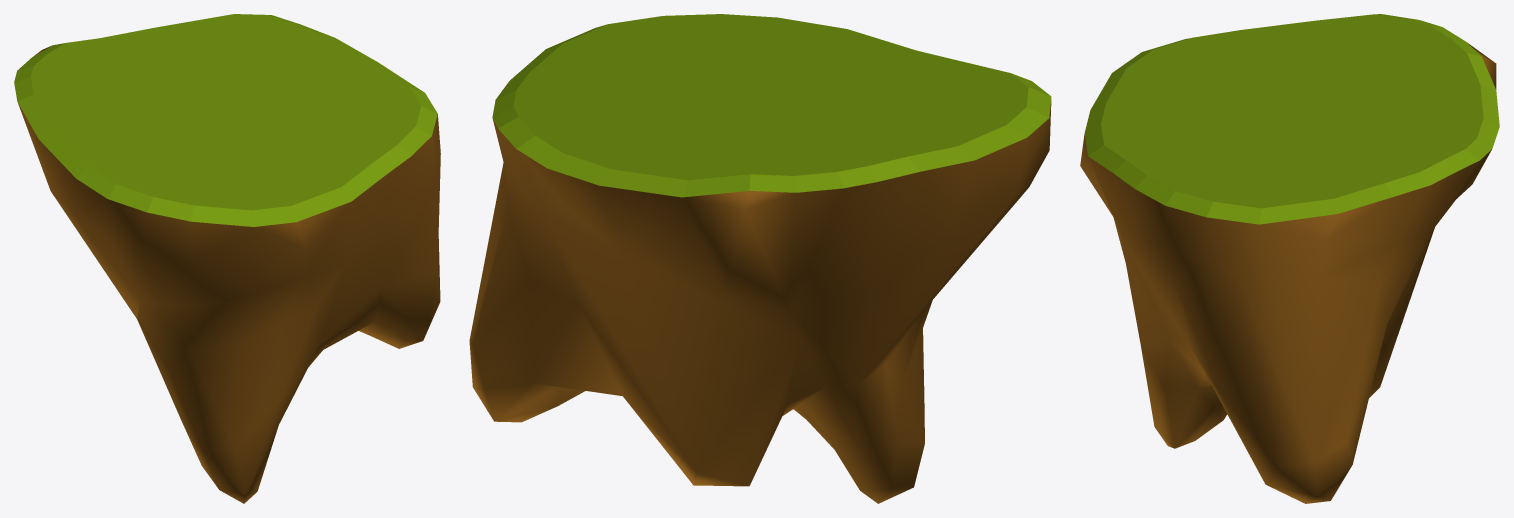
Rendered from SmoothShadedIsland2.fbx.
3 renders of one model, left to right at view 1: azimuth 30°, elevation 25°; view 2: azimuth 150°, elevation 25°; view 3: azimuth 270°, elevation 25°, orthographic. The views are drawn at different scales.
Visible parts, largest first — view 1: Cone.009, Cone.010, Cone.011; view 2: Cone.009, Cone.010, Cone.011; view 3: Cone.009, Cone.010, Cone.011.
Part boxes in pixels (x1,y1,x2,y2): Cone.009: (17,46,440,503); Cone.010: (31,14,420,210); Cone.011: (14,14,437,226); Cone.009: (469,100,1051,503); Cone.010: (513,14,1028,180); Cone.011: (492,24,1051,197); Cone.009: (1080,42,1496,503); Cone.010: (1101,14,1483,208); Cone.011: (1084,14,1499,224).
Bounding box in the file's own units: 4502 × 3993 × 4021.
